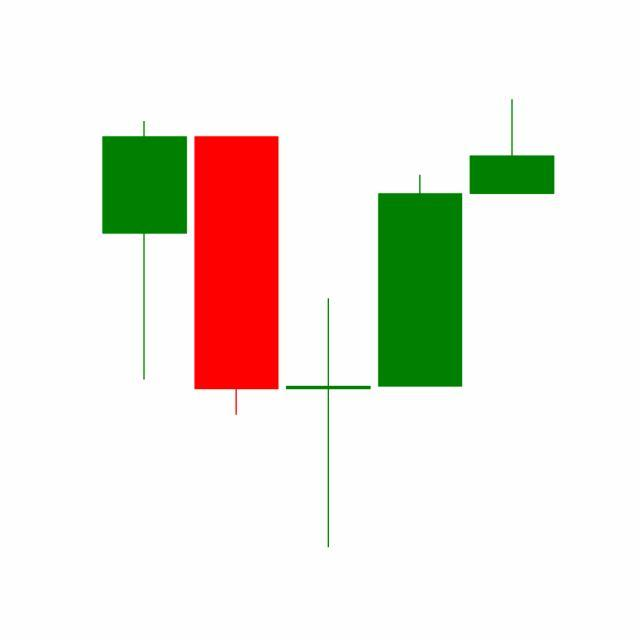Marubozu: (374, 173, 468, 390)
